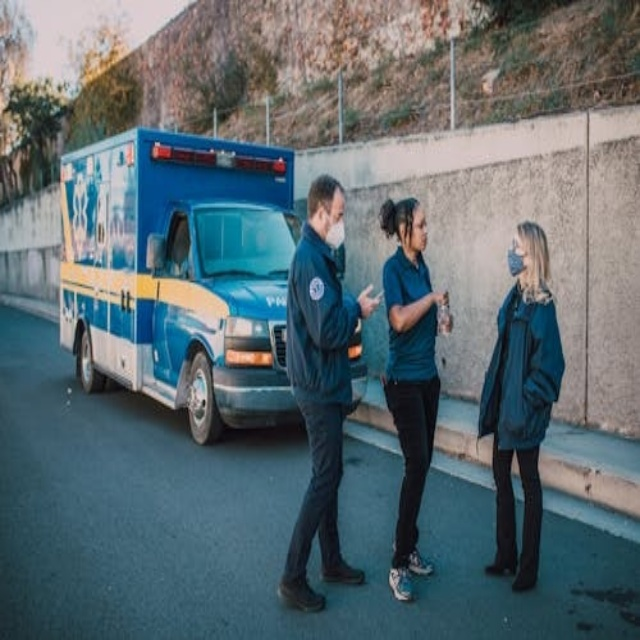Mascara: (506, 246, 534, 279), (324, 217, 349, 250)
Sin_mascara: (411, 229, 431, 258)
